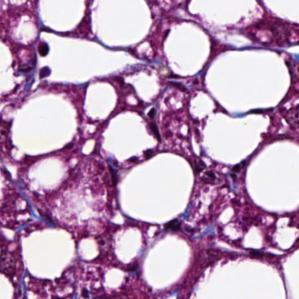inflammation: (34, 37, 55, 86), (188, 157, 221, 187), (124, 145, 157, 171), (142, 105, 163, 144)
